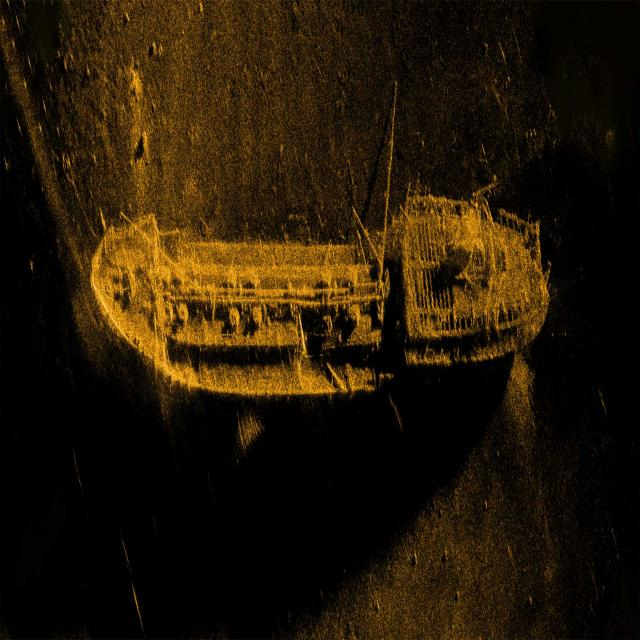ship: (89, 206, 552, 397)
